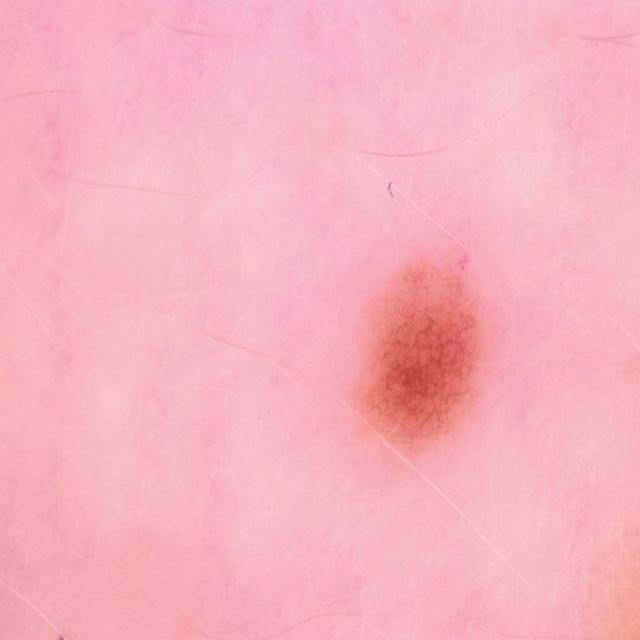NV: (355, 247, 483, 457)
